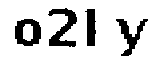2: (46, 6, 79, 51)
l: (82, 7, 103, 49)
o: (12, 18, 43, 47)
y: (113, 16, 152, 58)
